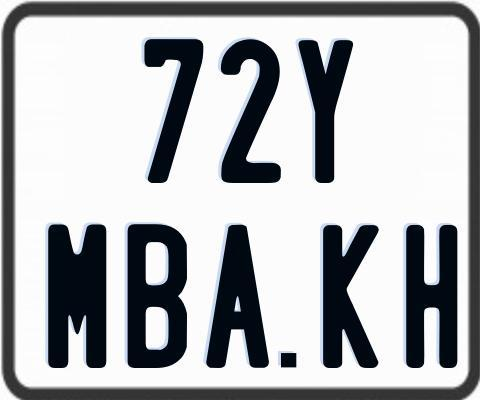2: (221, 38, 286, 184)
7: (142, 36, 204, 183)
A: (206, 225, 271, 369)
B: (125, 222, 184, 369)
H: (405, 225, 457, 374)
K: (320, 222, 382, 371)
M: (45, 223, 104, 369)
Y: (298, 37, 355, 185)
